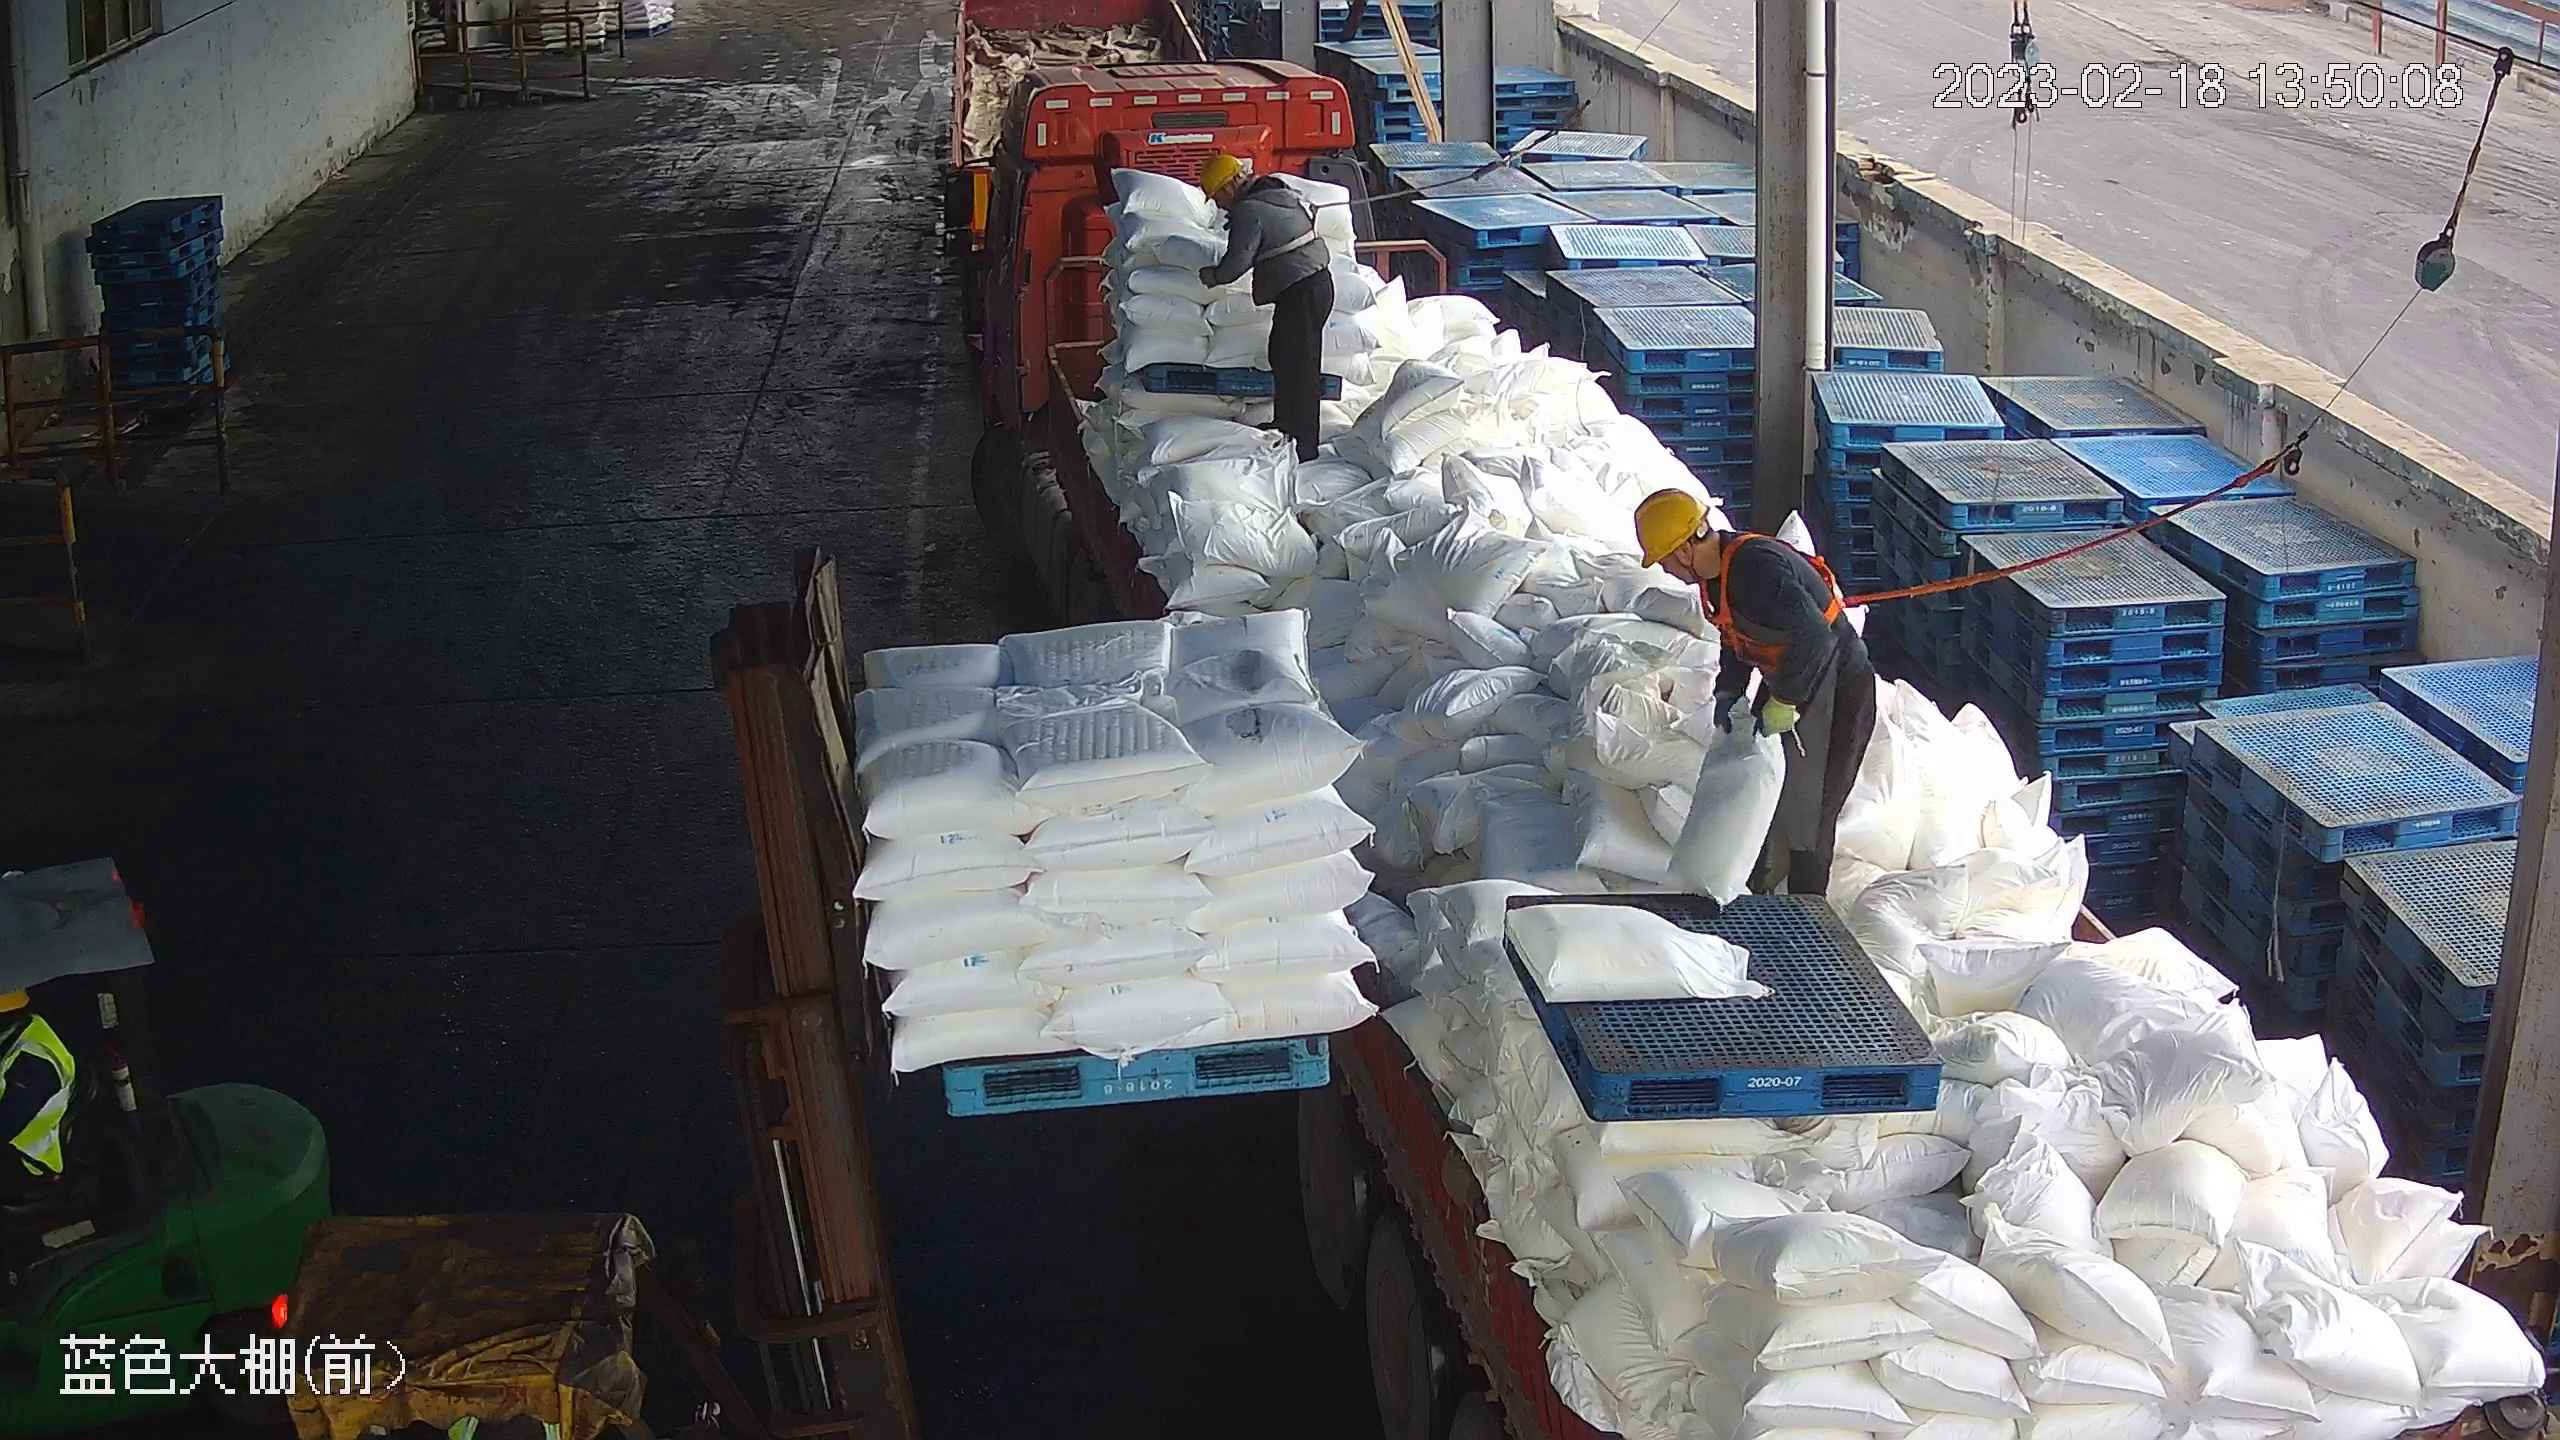belt: (1690, 522, 1876, 669), (1249, 174, 1342, 258)
head: (1631, 484, 1805, 628), (1199, 151, 1314, 240)
helmet: (1633, 487, 1710, 569), (1198, 150, 1248, 199)
people: (1630, 485, 1879, 907), (1195, 151, 1338, 469), (1, 983, 77, 1281)
truck: (921, 71, 2560, 1440)
